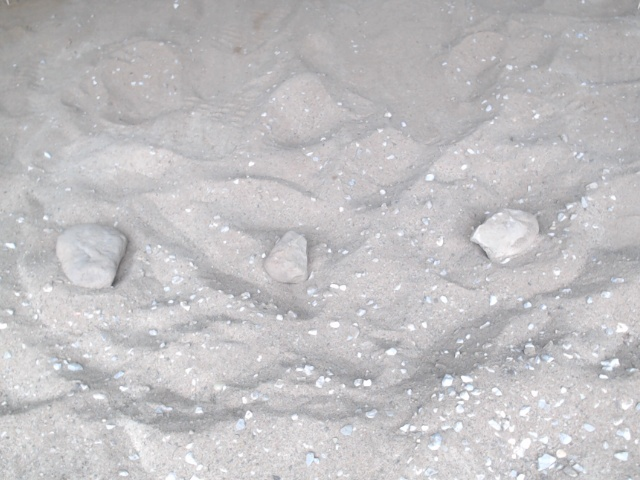rock: (52, 220, 132, 295), (467, 204, 543, 267), (260, 227, 313, 288)
